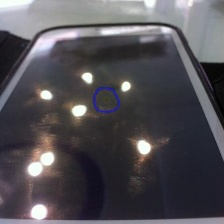phone: (0, 17, 224, 224)
